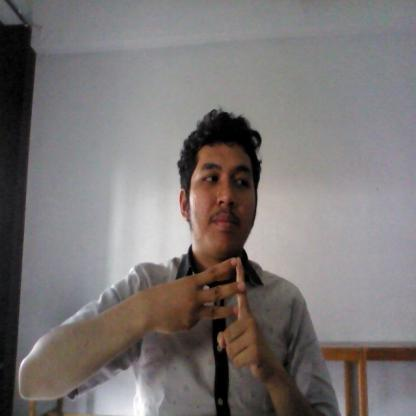B: (152, 252, 282, 382)
